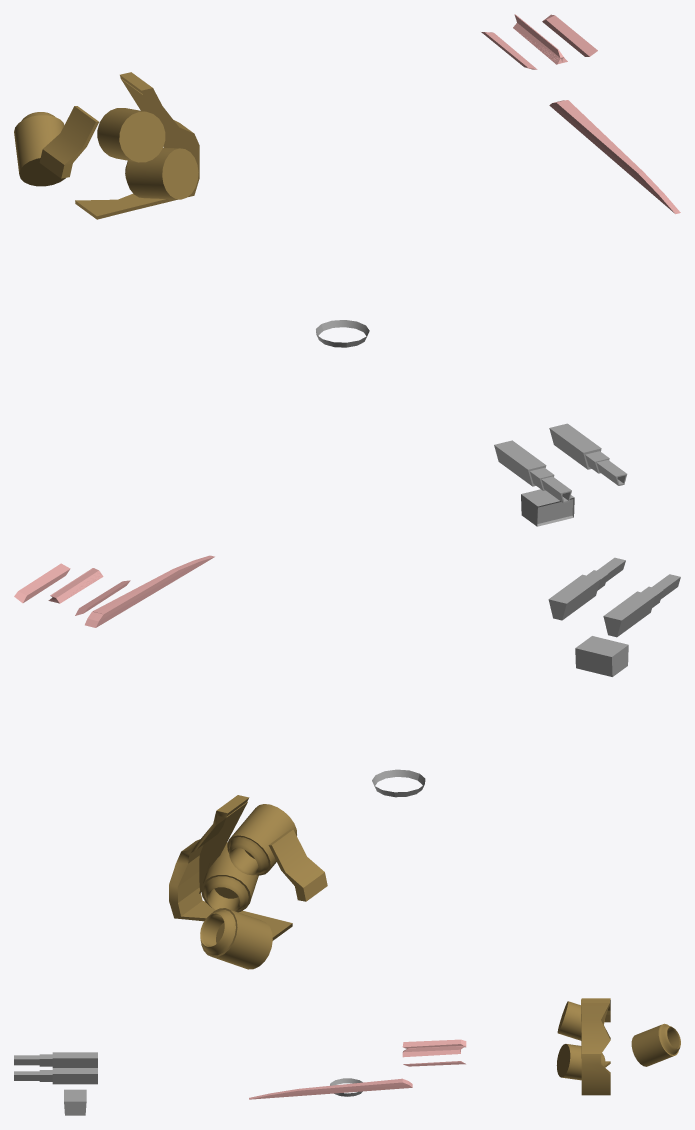
The model's file is DestroyedEnemyCS.fbx.
3 renders of one model, top to bottom at view 1: azimuth 30°, elevation 25°; view 2: azimuth 150°, elevation 25°; view 3: azimuth 270°, elevation 25°, orthographic. The views are drawn at different scales.
Parts seen in each view (by area): view 1: polySurface67, polySurface66, polySurface64, polySurface63, polySurface50, polySurface53, polySurface55, polySurface62, polySurface58; view 2: polySurface67, polySurface66, polySurface64, polySurface50, polySurface53, polySurface63, polySurface55, polySurface58, polySurface62; view 3: polySurface67, polySurface66, polySurface63, polySurface53, polySurface50, polySurface55, polySurface62, polySurface60, polySurface58.
Part boxes in pixels (x1,y1,x2,y2): polySurface67: (75,72,199,219); polySurface66: (14,112,65,186); polySurface64: (39,106,98,178); polySurface63: (549,100,680,214); polySurface50: (494,440,571,503); polySurface53: (549,423,627,485); polySurface55: (521,489,574,526); polySurface62: (513,14,567,64); polySurface58: (542,14,597,56); polySurface67: (169,795,296,940); polySurface66: (200,908,272,969); polySurface64: (268,829,327,901); polySurface50: (603,574,680,637); polySurface53: (548,557,625,620); polySurface63: (85,555,214,627); polySurface55: (575,636,628,676); polySurface58: (14,563,70,603); polySurface62: (48,568,103,603); polySurface67: (556,999,610,1095); polySurface66: (631,1023,680,1066); polySurface63: (249,1078,412,1099); polySurface53: (14,1068,97,1084); polySurface50: (14,1052,97,1067); polySurface55: (64,1089,86,1115); polySurface62: (402,1045,465,1057); polySurface60: (402,1039,466,1048); polySurface58: (403,1061,465,1066).
Bounding box in the file's own units: 824 × 437 × 1778.
